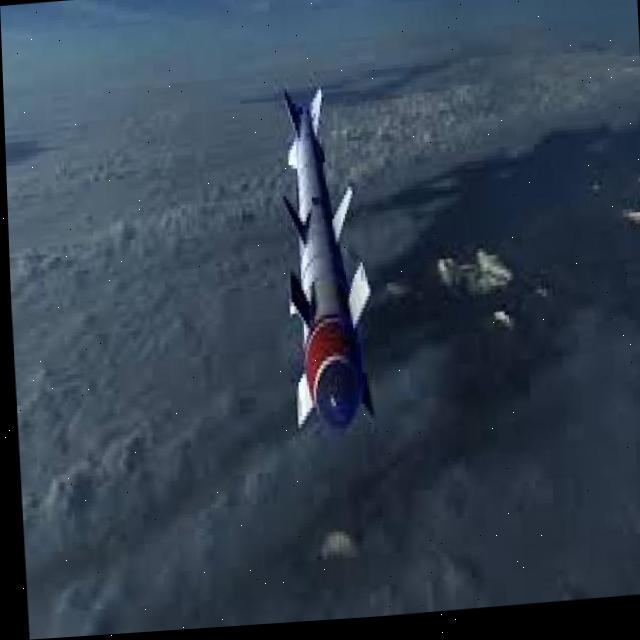missile: (246, 72, 379, 447)
